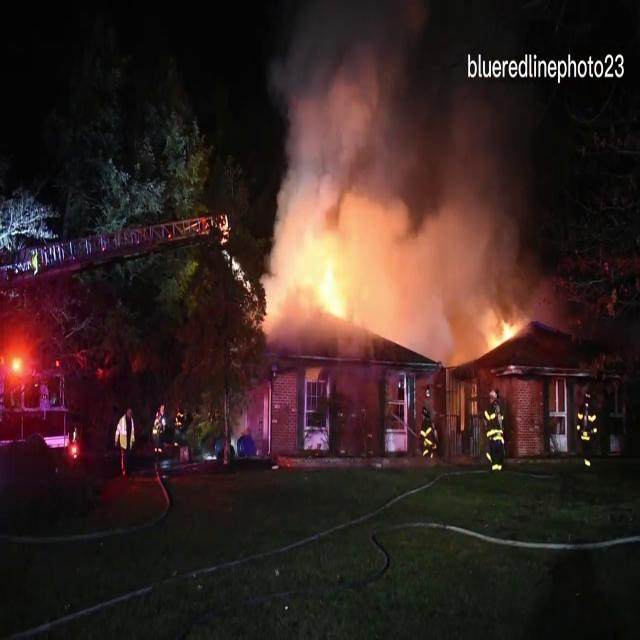Fire: (255, 242, 395, 342), (484, 308, 524, 358)
Smoke: (257, 0, 561, 313)
